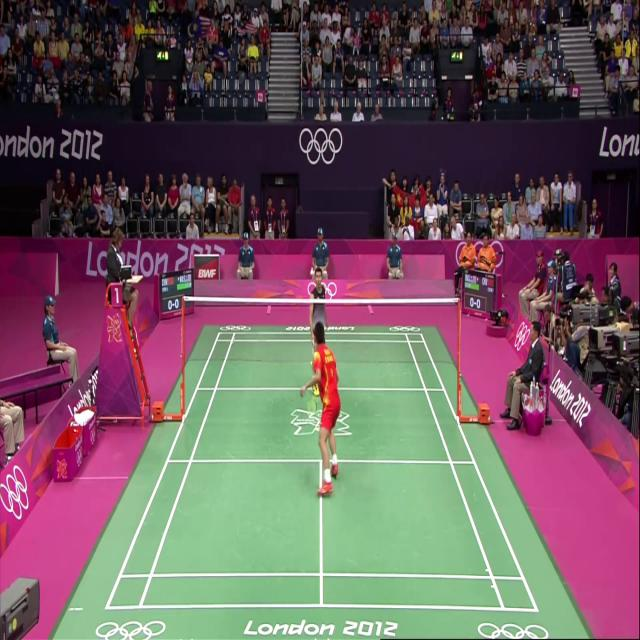Net: (180, 296, 460, 364)
Player1: (298, 328, 341, 512)
Player2: (305, 266, 334, 376)
Shuttlecock: (308, 265, 318, 280)
